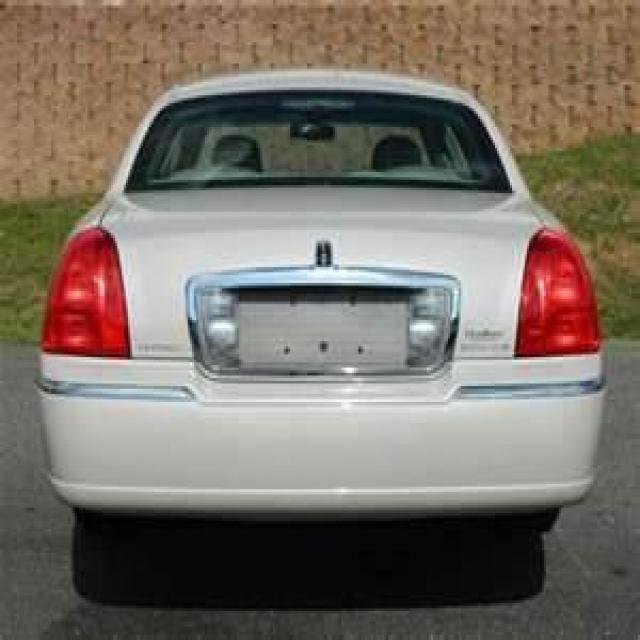car: (36, 68, 607, 546)
